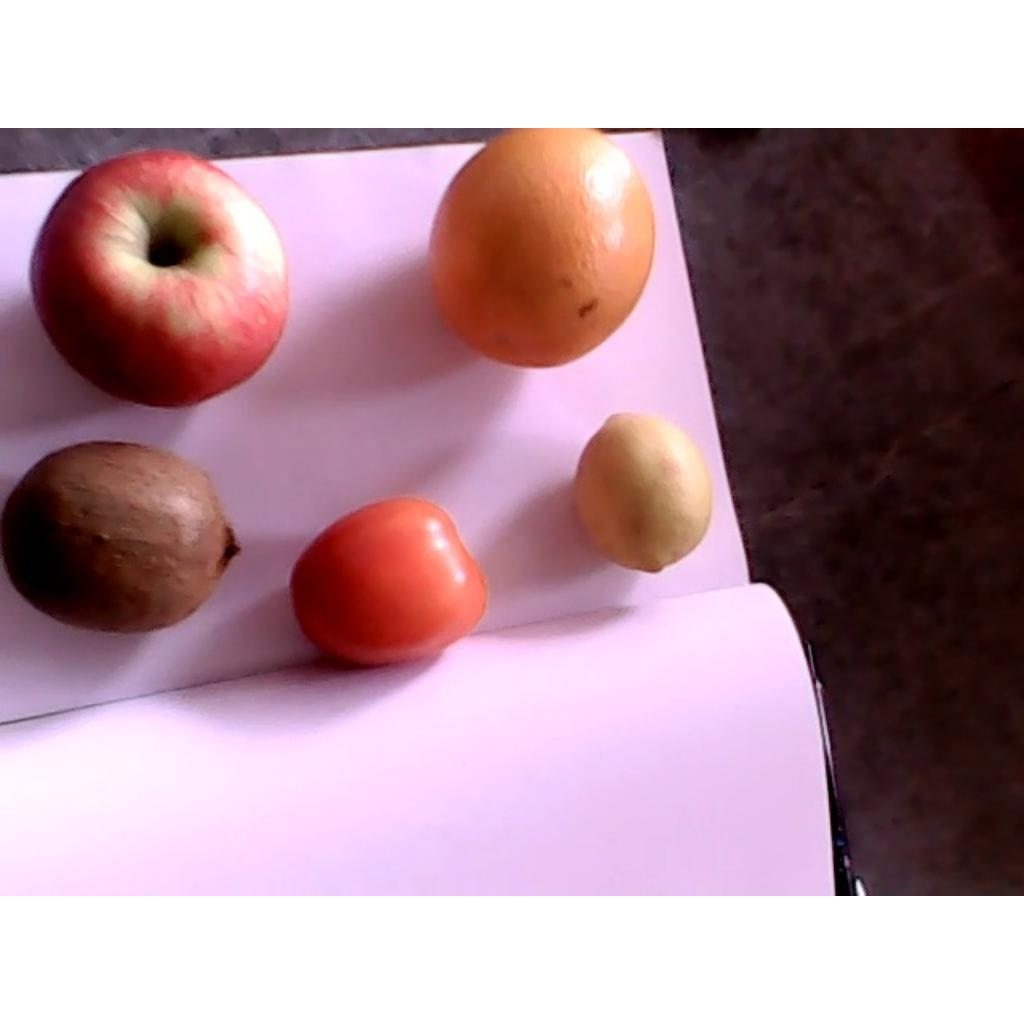apple: (31, 151, 285, 408)
kiwi: (1, 443, 241, 634)
lemon: (577, 412, 712, 572)
orange: (428, 128, 655, 367)
tomato: (288, 494, 489, 667)
